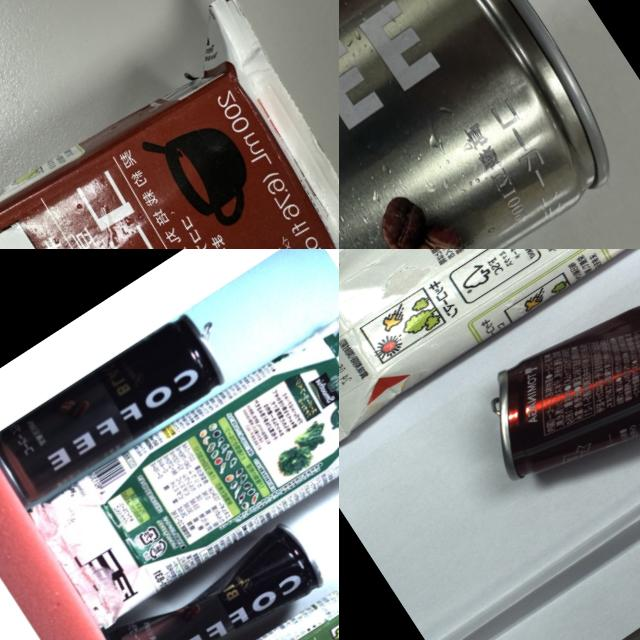Aluminium Foil: (24, 296, 339, 632), (0, 12, 339, 249), (339, 249, 640, 454), (457, 249, 640, 528), (136, 527, 339, 640)
Can: (339, 0, 627, 249), (0, 307, 230, 508), (99, 513, 333, 640)
